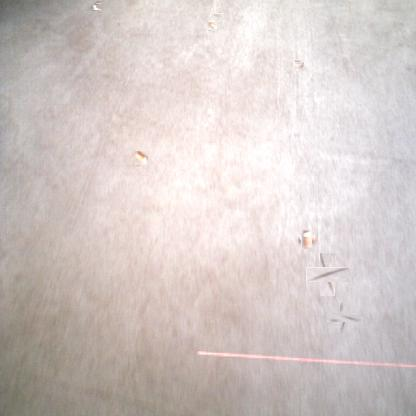dirty: (299, 232, 315, 247), (134, 151, 148, 165), (92, 2, 102, 12), (294, 61, 303, 70), (208, 21, 216, 31)
mark: (313, 260, 342, 289), (333, 306, 355, 328), (214, 12, 223, 20)
